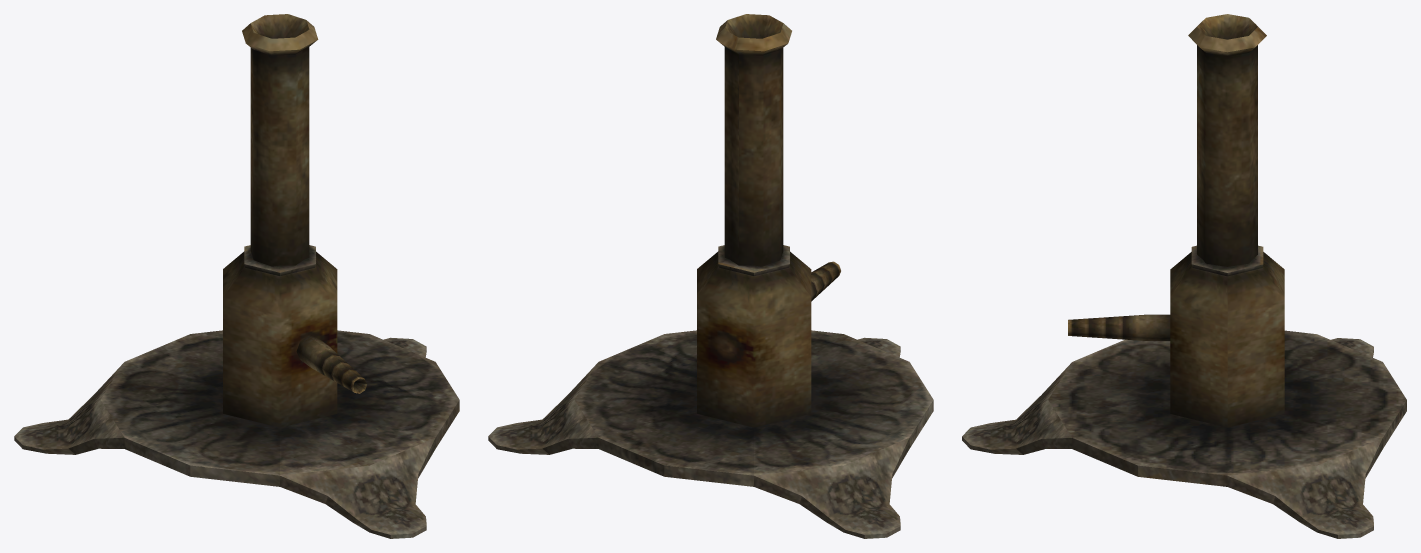
Rendered from burner.dae.
3 renders of one model, left to right at view 1: azimuth 30°, elevation 25°; view 2: azimuth 150°, elevation 25°; view 3: azimuth 270°, elevation 25°, orthographic.
Parts seen in each view (by area): view 1: polySurface6; view 2: polySurface6; view 3: polySurface6.
Part boxes in pixels (<box>): polySurface6: <box>14,14,459,538</box>; polySurface6: <box>488,14,933,538</box>; polySurface6: <box>962,14,1406,538</box>.
Size of the model in its own units: 0.2042 by 0.2 by 0.195.
